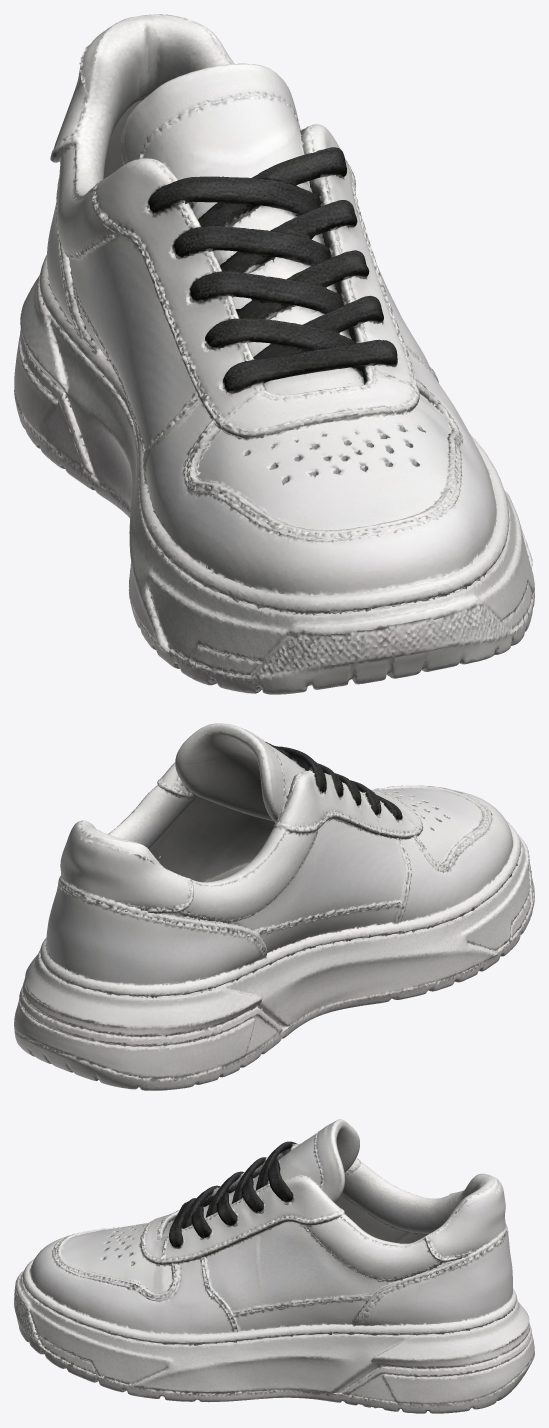
The model's file is shoes.glb.
3 renders of one model, top to bottom at view 1: azimuth 30°, elevation 25°; view 2: azimuth 150°, elevation 25°; view 3: azimuth 270°, elevation 25°, orthographic. The views are drawn at different scales.
Parts seen in each view (by area): view 1: tripo_node_ac2070aa-9dce-43a1-b75c-7f6d79869510; view 2: tripo_node_ac2070aa-9dce-43a1-b75c-7f6d79869510; view 3: tripo_node_ac2070aa-9dce-43a1-b75c-7f6d79869510.
Boxes of the visible parts, x1,y1,x2,y2 form: tripo_node_ac2070aa-9dce-43a1-b75c-7f6d79869510: [14, 14, 534, 694]; tripo_node_ac2070aa-9dce-43a1-b75c-7f6d79869510: [14, 723, 534, 1090]; tripo_node_ac2070aa-9dce-43a1-b75c-7f6d79869510: [14, 1119, 534, 1413].
Bounding box in the file's own units: 0.5222 × 0.4936 × 0.9799.
Materials: 1 (1 with a texture image).
